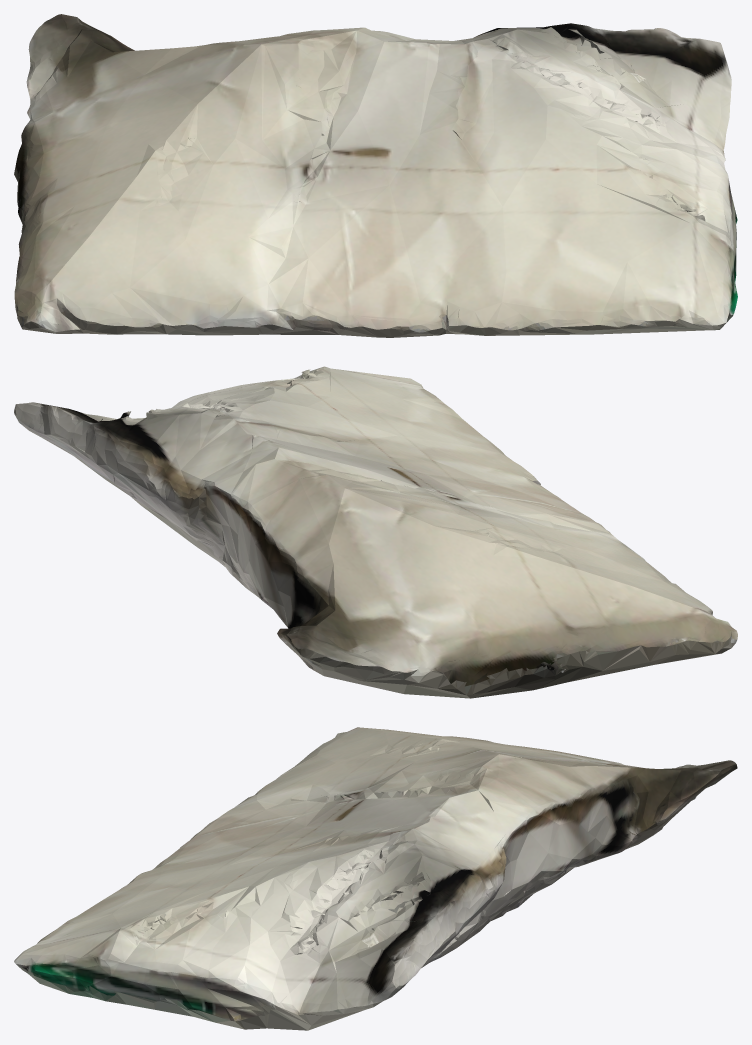
Rendered from PackageA.obj.
The picture shows the model from 3 angles, top to bottom: view 1: azimuth 30°, elevation 25°; view 2: azimuth 150°, elevation 25°; view 3: azimuth 270°, elevation 25°; orthographic projection. The views are drawn at different scales.
Size of the model in its own units: 132 by 27.38 by 125.
1 material, 1 textured.
